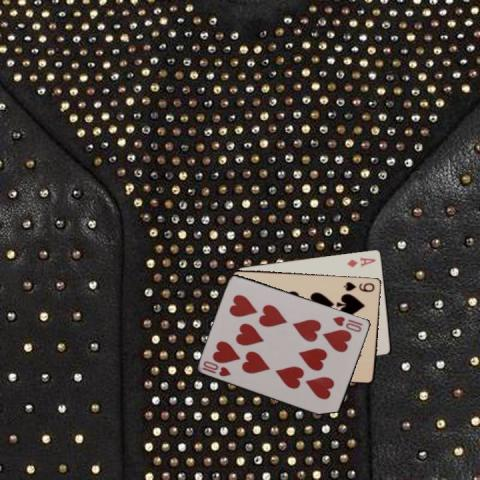10h: (330, 314, 365, 334), (199, 358, 233, 378)
9s: (341, 279, 376, 293)
Ad: (345, 255, 377, 268)
